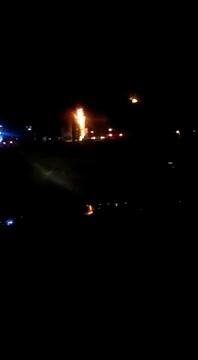fire: (76, 102, 91, 141)
